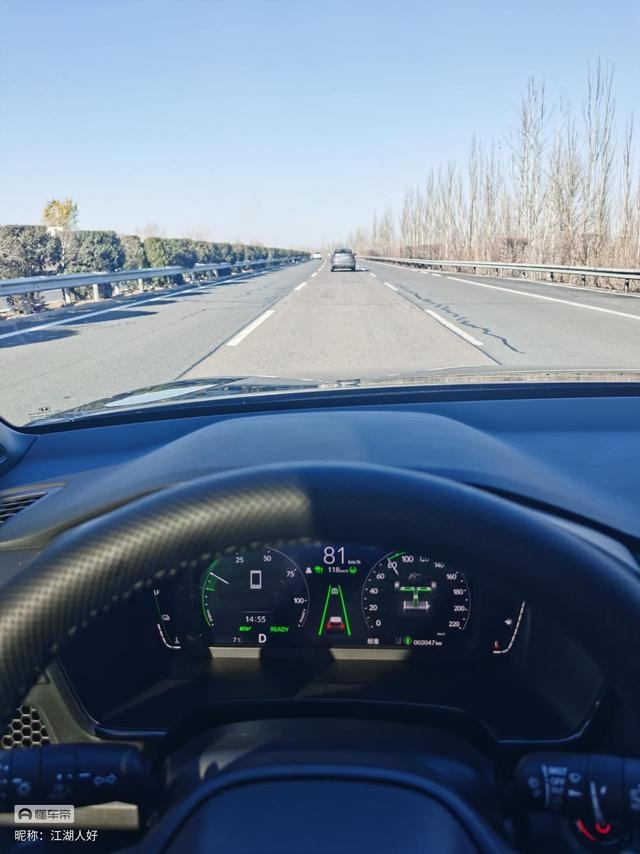lane: (15, 286, 198, 351), (450, 278, 635, 323), (429, 306, 490, 355), (222, 307, 276, 343)
